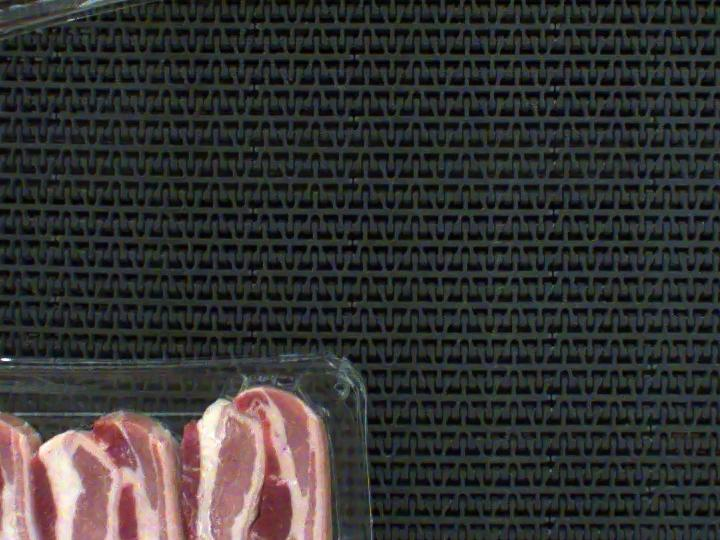packaging-error: (200, 348, 363, 434)
